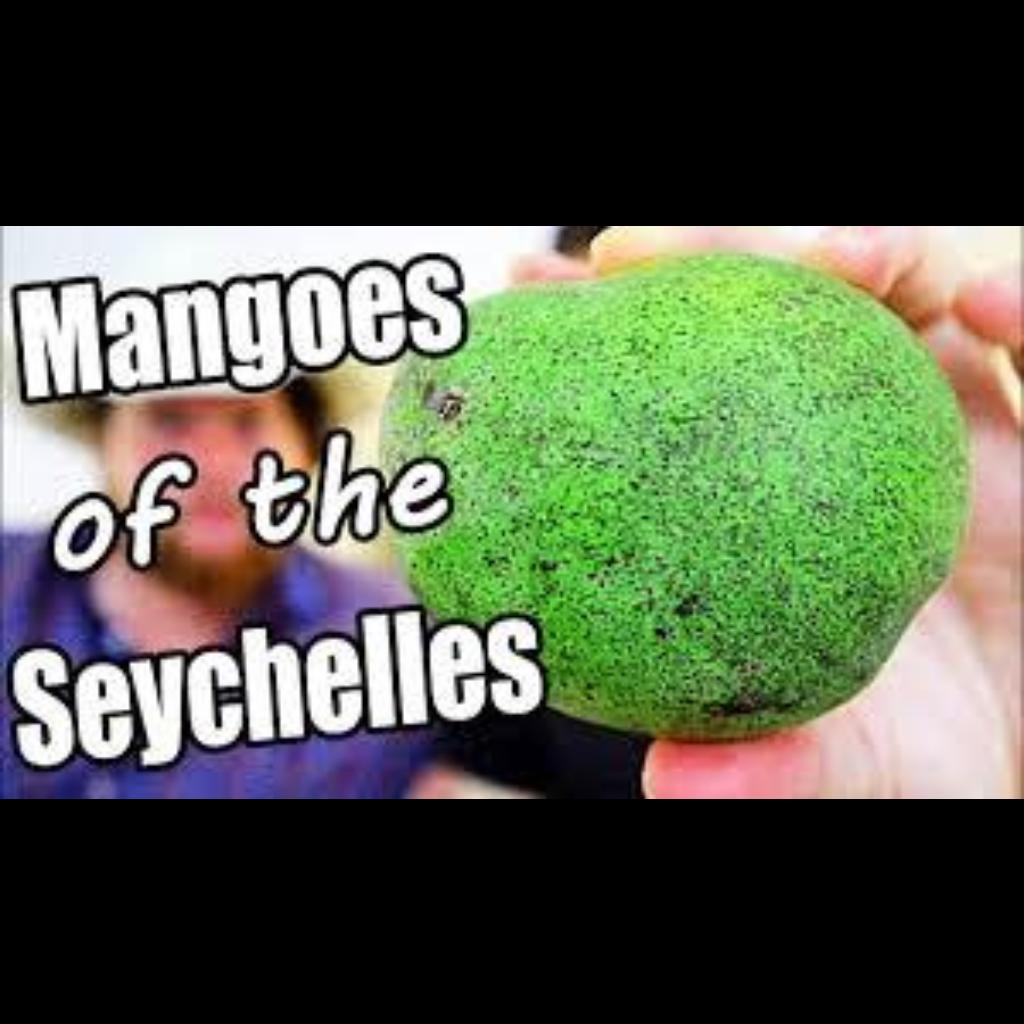cercospora: (475, 259, 963, 730)
